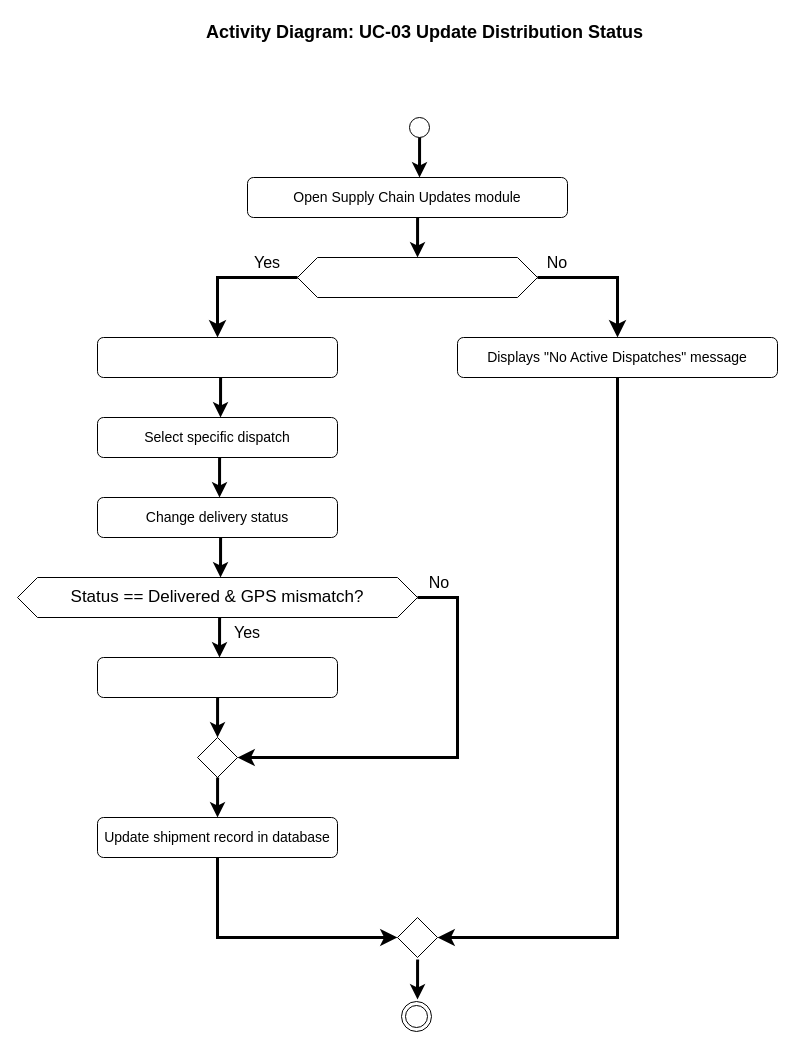
Some shapes in this 795 by 1049 pixel diagram are drawn without their labels. The centre of each missing label's shape, as x and y in pixels:
"Active Dispatches Exist?" belongs at point 417,277.
"List assigned dispatches" belongs at point 217,357.
"Prompt for manual override reason" belongs at point 217,677.
